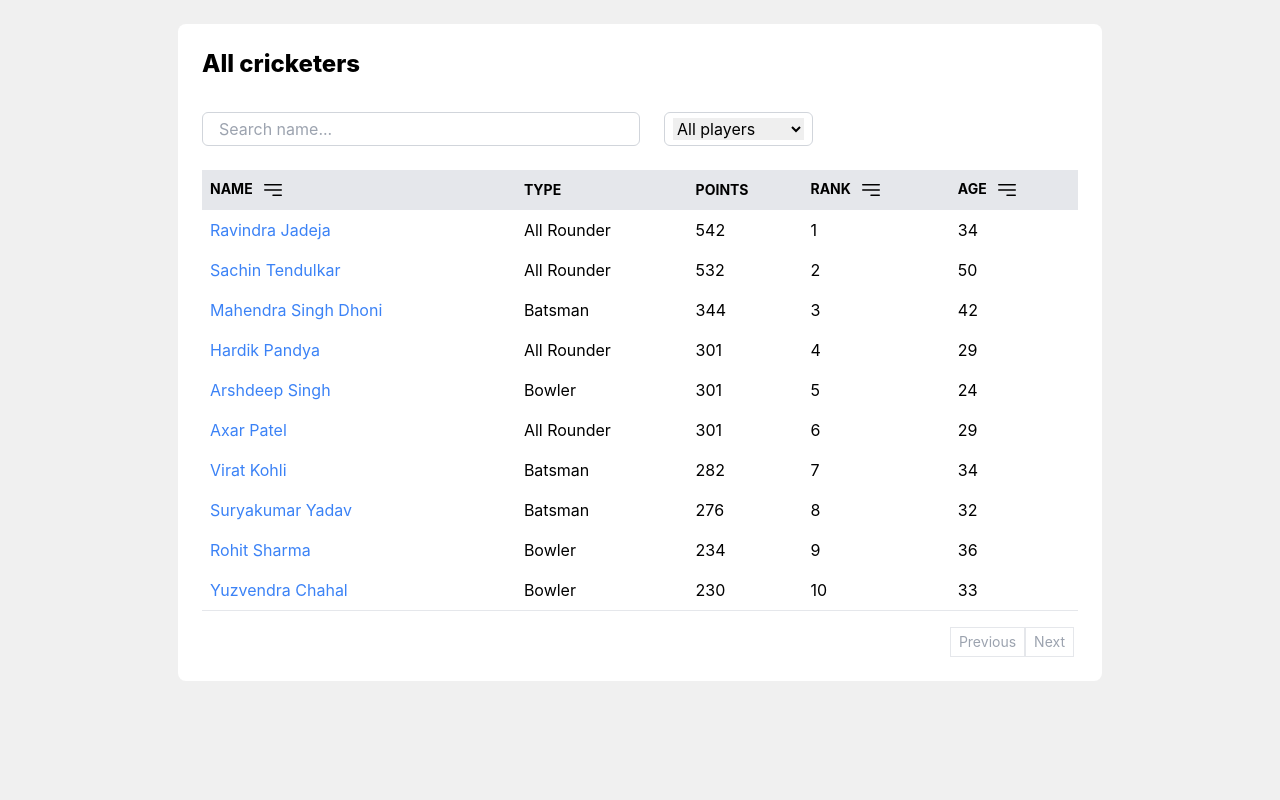
Test: render and check details page
Click the link with test id "name-col" showing "Ravindra Jadeja": (270, 230) [210,220,331,240]
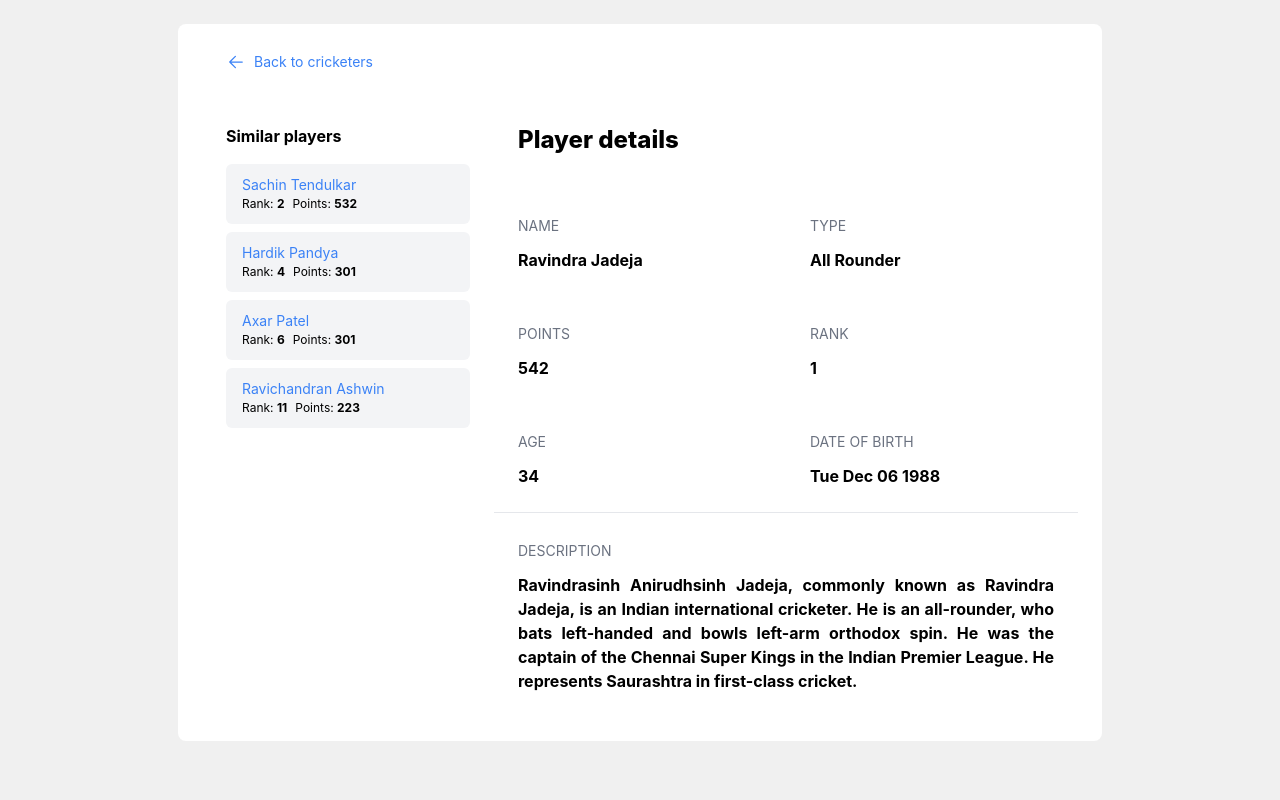
Now the text "Player details" is shown, box [518,125,679,154]
